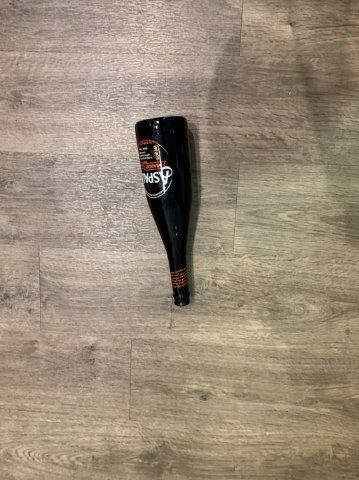botolkaca: (136, 116, 191, 306)
